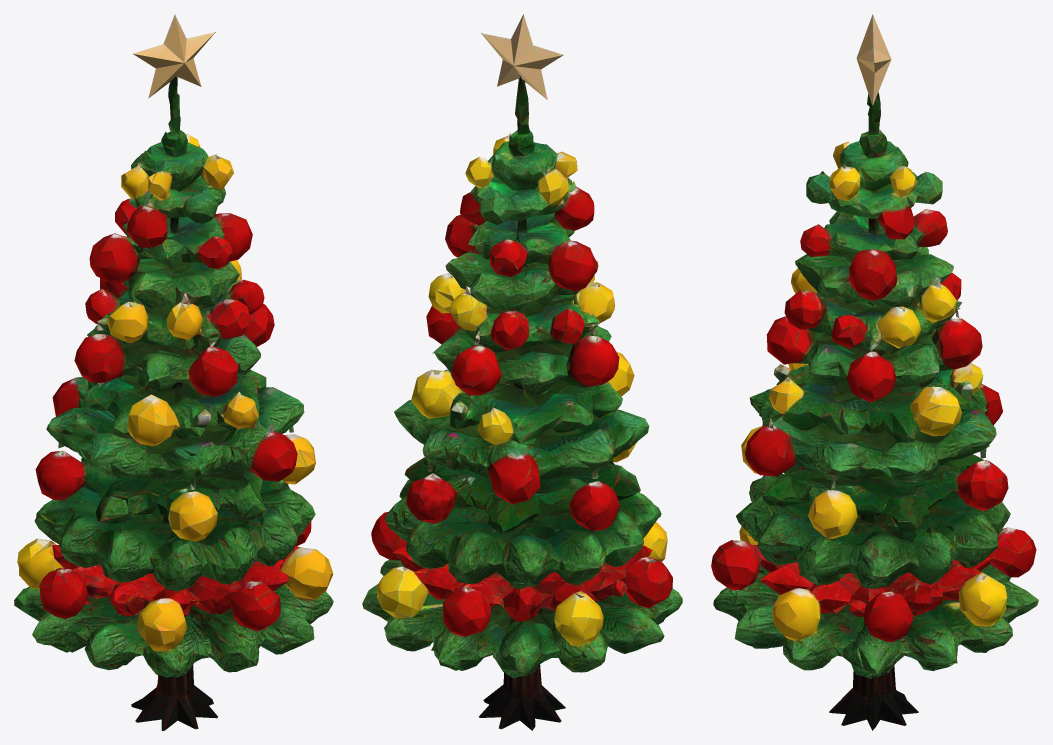
The model's file is xmastree.glb.
3 renders of one model, left to right at view 1: azimuth 30°, elevation 25°; view 2: azimuth 150°, elevation 25°; view 3: azimuth 270°, elevation 25°, orthographic.
Bounding box in the file's own units: 0.8053 × 1.9 × 0.8077.
Materials: 1 (1 with a texture image).
